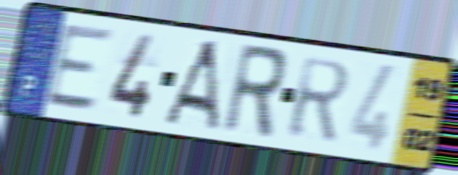4: (345, 60, 397, 158), (106, 31, 156, 121)
A: (161, 37, 222, 135)
E: (42, 22, 118, 114)
R: (218, 40, 291, 143), (284, 55, 353, 144)
